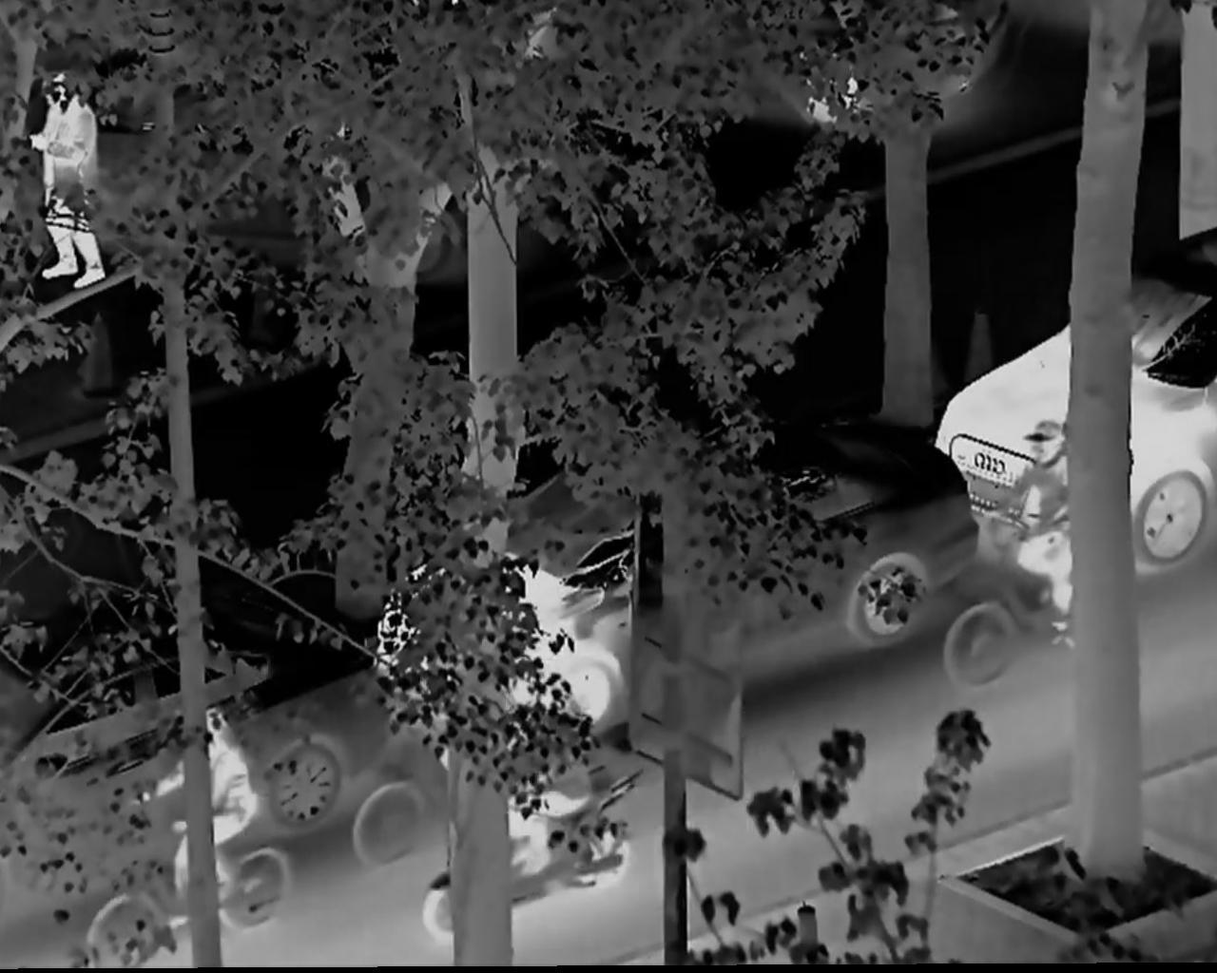person: (988, 414, 1099, 632), (144, 709, 257, 907), (21, 66, 111, 285), (486, 697, 583, 871)
